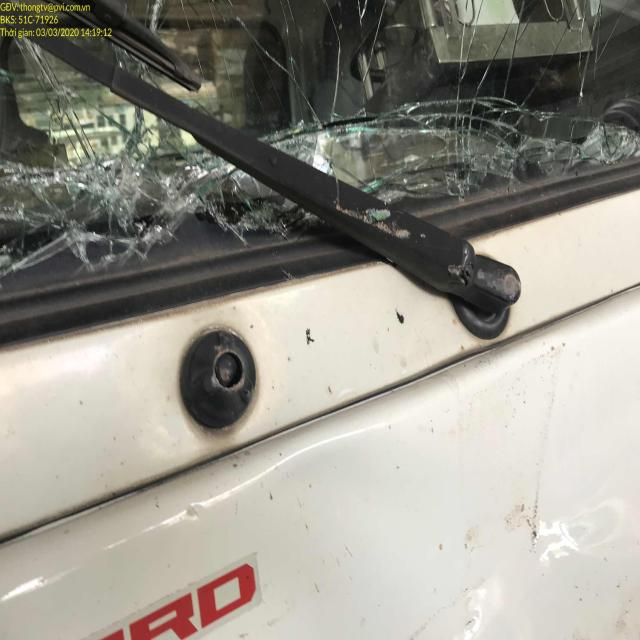Fissure: (0, 66, 634, 261), (191, 6, 336, 109), (547, 6, 624, 79), (125, 1, 197, 64), (487, 1, 530, 87), (455, 0, 486, 101), (352, 0, 377, 83)
Rayure: (493, 487, 549, 543)
